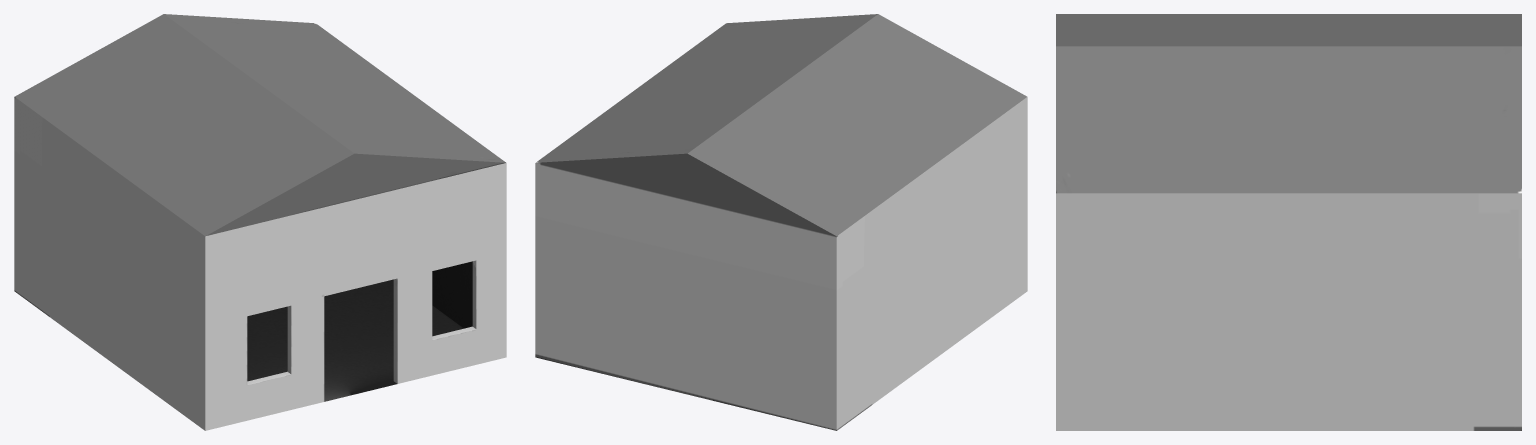
File: model_building_gym.fbx
The picture shows the model from 3 angles, left to right: view 1: azimuth 30°, elevation 25°; view 2: azimuth 150°, elevation 25°; view 3: azimuth 270°, elevation 25°; orthographic projection. The views are drawn at different scales.
Parts seen in each view (by area): view 1: mesh_gym; view 2: mesh_gym; view 3: mesh_gym.
Part boxes in pixels (box(x1,y1,x2,y2)): mesh_gym: box(14, 14, 506, 430); mesh_gym: box(535, 14, 1027, 430); mesh_gym: box(1056, 14, 1521, 430).
Bounding box in the file's own units: 678 × 518 × 744.
